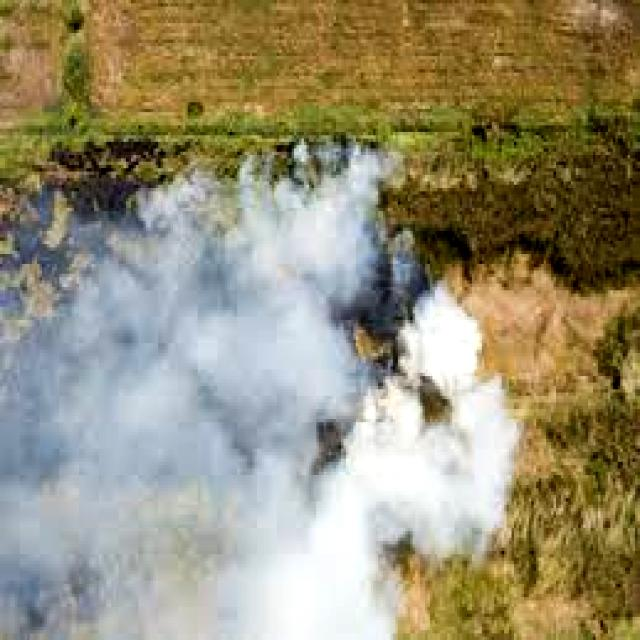Smoke: (7, 174, 525, 622)
